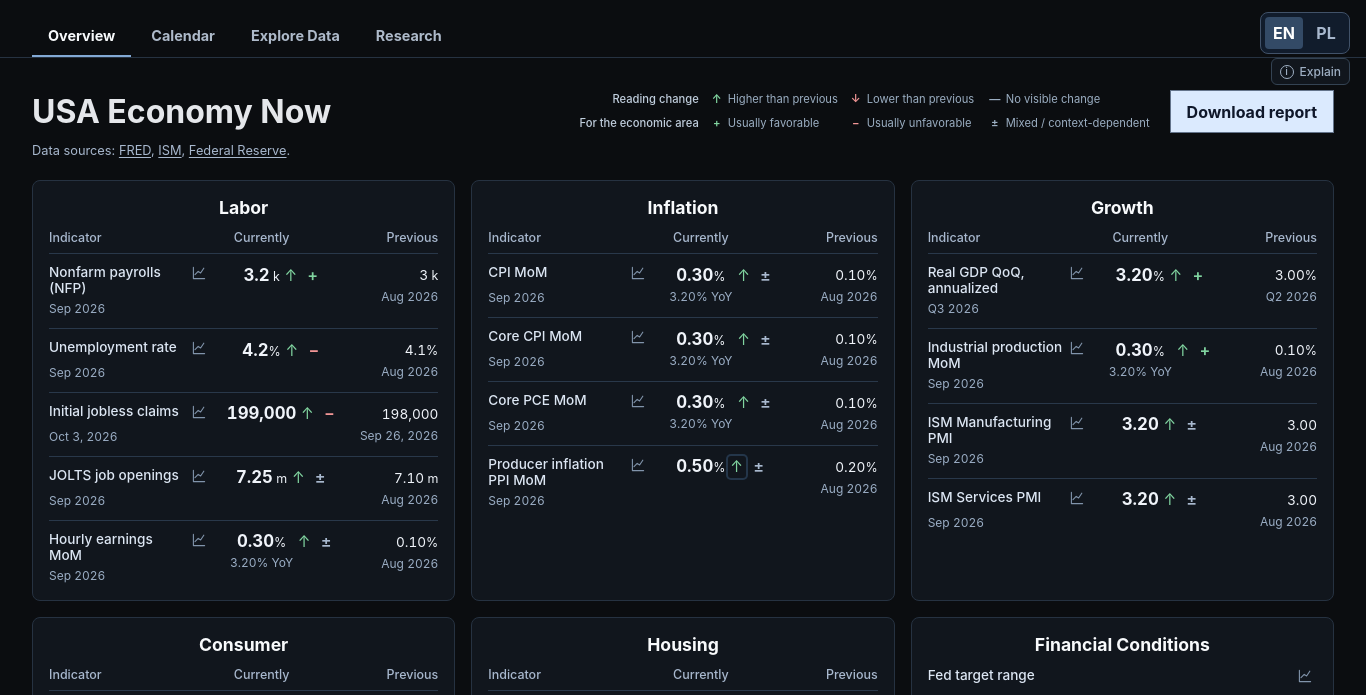
Test: PPI is a fourth inflation row with numerical direction, exact pp difference and no YoY
This screenshot has width=1366, height=695.
Check: the element showing "0.50 %" is shown, box [676,456,726,476]
Click the button with aria-label "Polski" at (1326, 33), box [1307,17,1345,49]
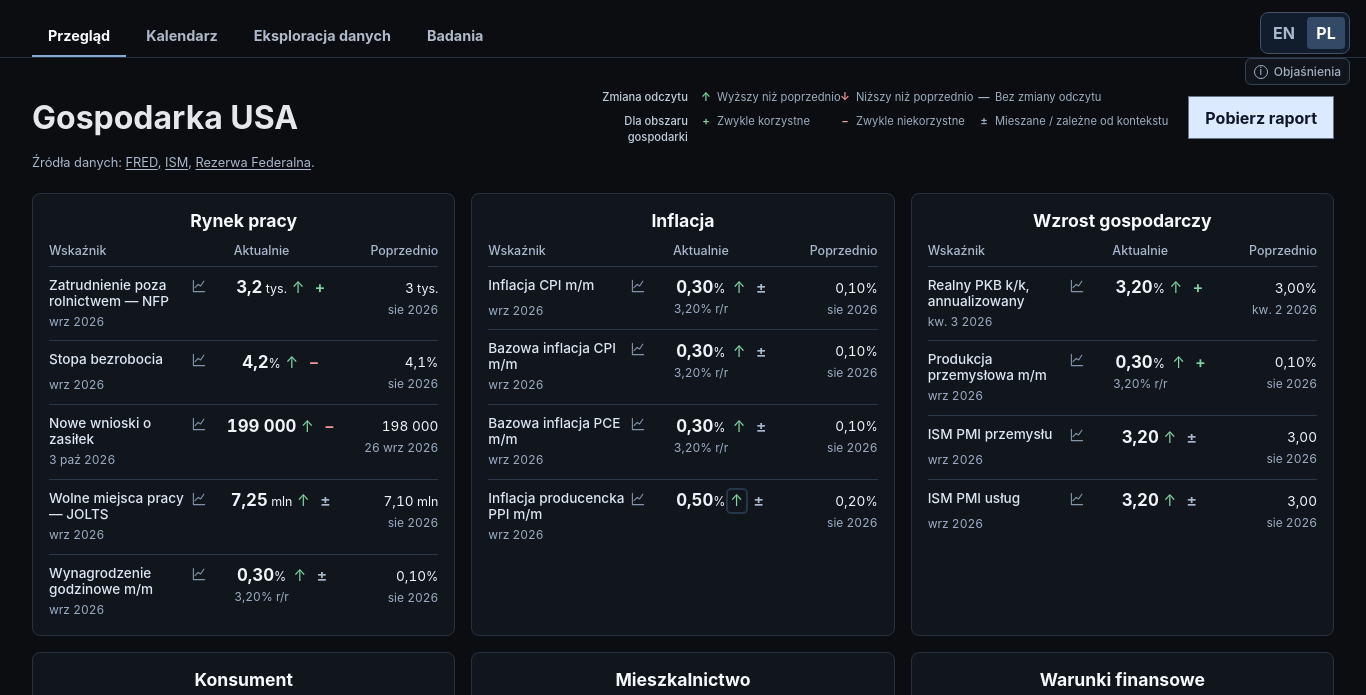
Check: the row "Inflacja producencka PPI m/m" is shown, box [488,480,878,544]
